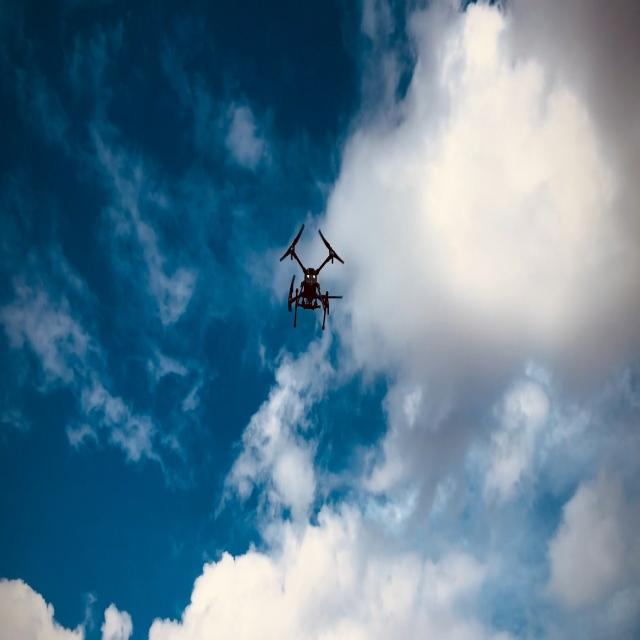drone: (279, 222, 344, 331)
